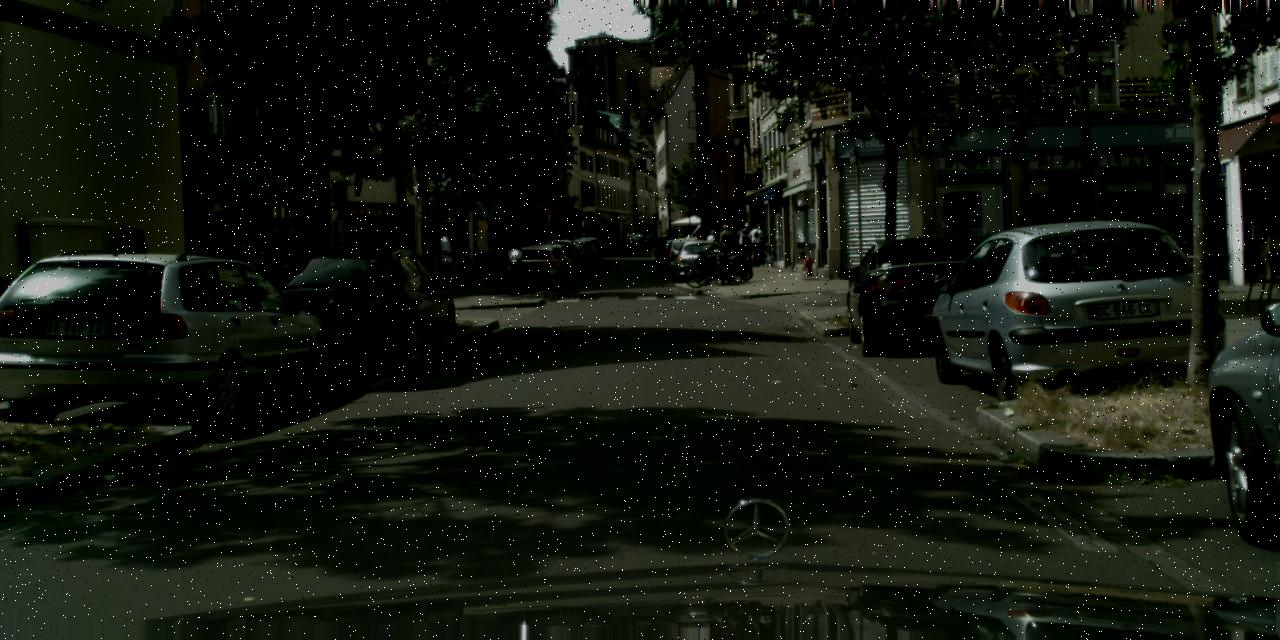ped: (432, 228, 460, 294), (277, 255, 297, 302), (718, 224, 736, 267), (748, 223, 764, 266), (738, 222, 754, 264), (705, 229, 717, 259), (528, 235, 538, 260), (546, 233, 554, 253), (568, 232, 576, 249), (611, 235, 618, 254), (598, 236, 604, 248)
